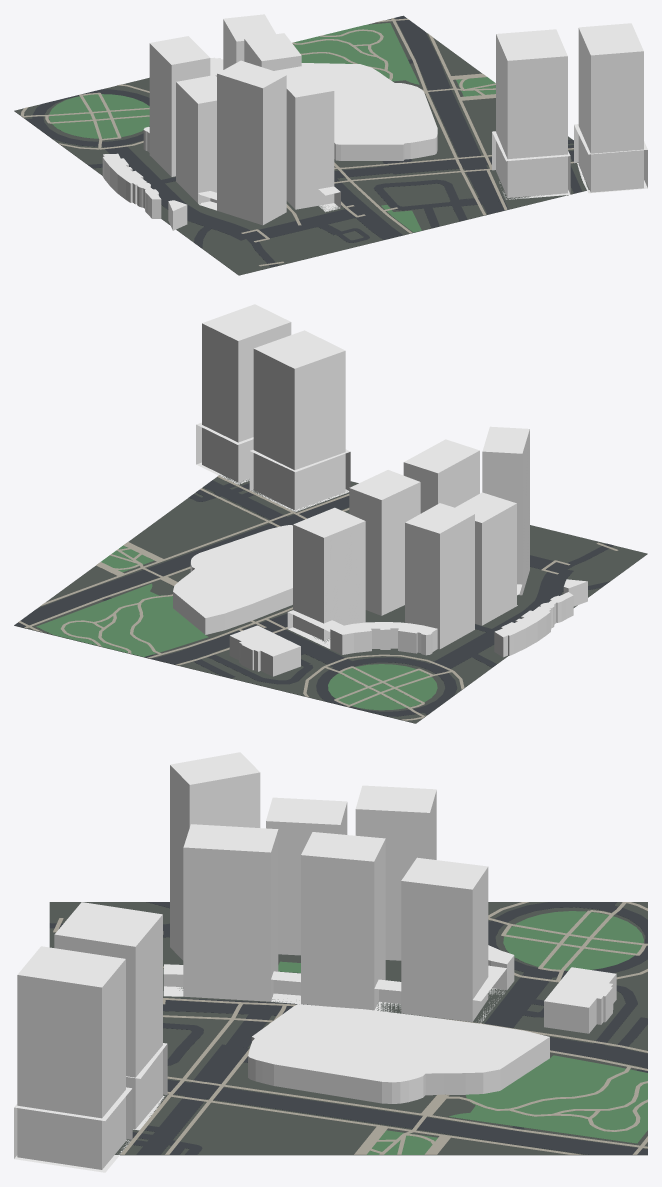
File: tile_002_007.glb
3 renders of one model, top to bottom at view 1: azimuth 30°, elevation 25°; view 2: azimuth 150°, elevation 25°; view 3: azimuth 270°, elevation 25°, orthographic. The views are drawn at different scales.
Parts seen in each view (by area): view 1: tile_002_007_buildings_neutral, tile_002_007_ground, tile_002_007_roads, tile_002_007_buildings_detailed_m23:mind_museum, tile_002_007_open_spaces, tile_002_007_buildings_residential, tile_002_007_paths, tile_002_007_buildings_retail, tile_002_007_buildings_office; view 2: tile_002_007_buildings_neutral, tile_002_007_ground, tile_002_007_roads, tile_002_007_buildings_residential, tile_002_007_open_spaces, tile_002_007_buildings_detailed_m23:mind_museum, tile_002_007_buildings_retail, tile_002_007_paths, tile_002_007_buildings_office; view 3: tile_002_007_buildings_neutral, tile_002_007_ground, tile_002_007_buildings_detailed_m23:mind_museum, tile_002_007_roads, tile_002_007_open_spaces, tile_002_007_buildings_residential, tile_002_007_paths, tile_002_007_buildings_retail, tile_002_007_buildings_office.
Part boxes in pixels (box(x1,y1,x2,y2)): tile_002_007_buildings_neutral: box(168, 14, 643, 230); tile_002_007_ground: box(14, 18, 589, 275); tile_002_007_roads: box(25, 15, 581, 267); tile_002_007_buildings_detailed_m23:mind_museum: box(301, 63, 437, 160); tile_002_007_open_spaces: box(49, 23, 495, 232); tile_002_007_buildings_residential: box(149, 36, 647, 212); tile_002_007_paths: box(20, 18, 577, 266); tile_002_007_buildings_retail: box(102, 57, 223, 218); tile_002_007_buildings_office: box(492, 131, 570, 199); tile_002_007_buildings_neutral: box(202, 304, 587, 640); tile_002_007_ground: box(14, 475, 647, 723); tile_002_007_roads: box(14, 480, 613, 716); tile_002_007_buildings_residential: box(196, 422, 521, 649); tile_002_007_open_spaces: box(36, 545, 437, 710); tile_002_007_buildings_detailed_m23:mind_museum: box(173, 525, 292, 634); tile_002_007_buildings_retail: box(229, 592, 573, 676); tile_002_007_paths: box(18, 475, 618, 720); tile_002_007_buildings_office: box(249, 449, 350, 511); tile_002_007_buildings_neutral: box(17, 752, 488, 1169); tile_002_007_ground: box(49, 902, 647, 1155); tile_002_007_buildings_detailed_m23:mind_museum: box(248, 1004, 549, 1103); tile_002_007_roads: box(49, 902, 647, 1154); tile_002_007_open_spaces: box(278, 911, 647, 1154); tile_002_007_buildings_residential: box(14, 785, 506, 1172); tile_002_007_paths: box(53, 902, 647, 1154); tile_002_007_buildings_retail: box(488, 945, 616, 1033); tile_002_007_buildings_office: box(126, 1043, 167, 1130).
Size of the model in its own units: 272 by 84.26 by 265.
